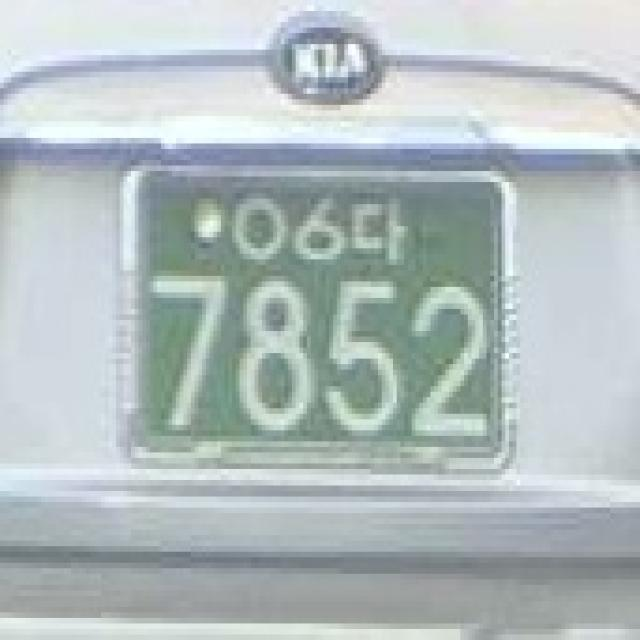plat: (116, 160, 518, 477)
